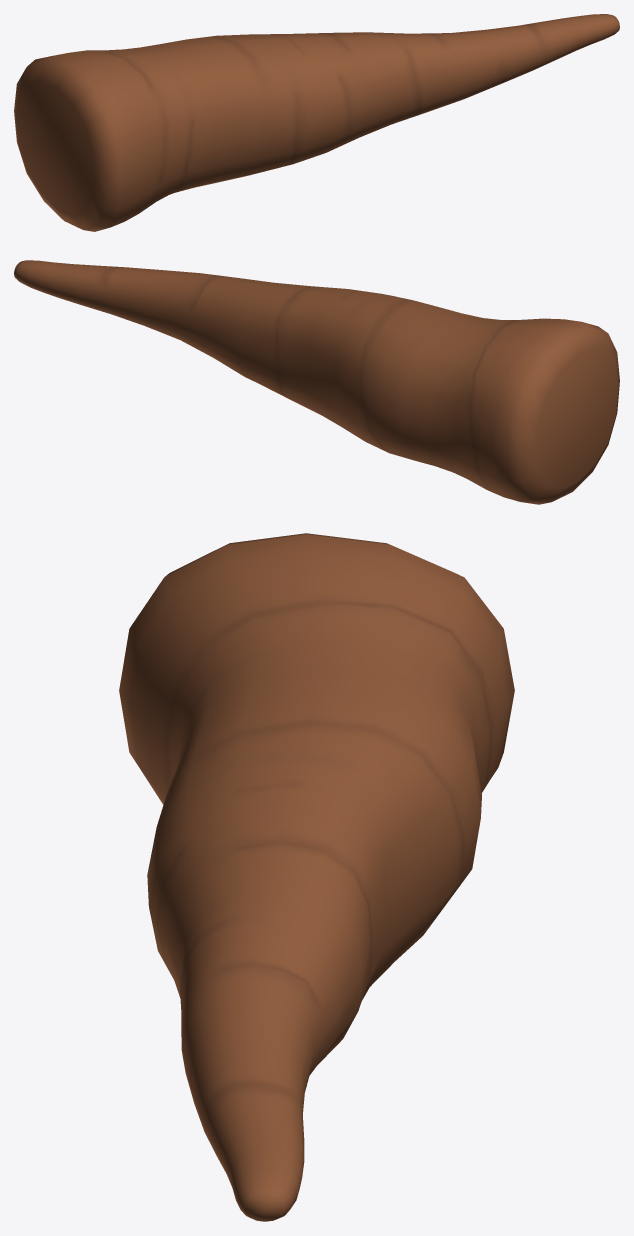
Rendered from RaizAncestral.fbx.
3 views of the same model, one above another, from view 1: azimuth 30°, elevation 25°; view 2: azimuth 150°, elevation 25°; view 3: azimuth 270°, elevation 25° (orthographic). The views are drawn at different scales.
Parts seen in each view (by area): view 1: Raiz Ancestral; view 2: Raiz Ancestral; view 3: Raiz Ancestral.
Part boxes in pixels (left/top/right/bottom): Raiz Ancestral: left=14, top=14, right=619, bottom=231; Raiz Ancestral: left=14, top=260, right=619, bottom=504; Raiz Ancestral: left=119, top=533, right=514, bottom=1221.
Bounding box in the file's own units: 217 × 58.5 × 67.44.
